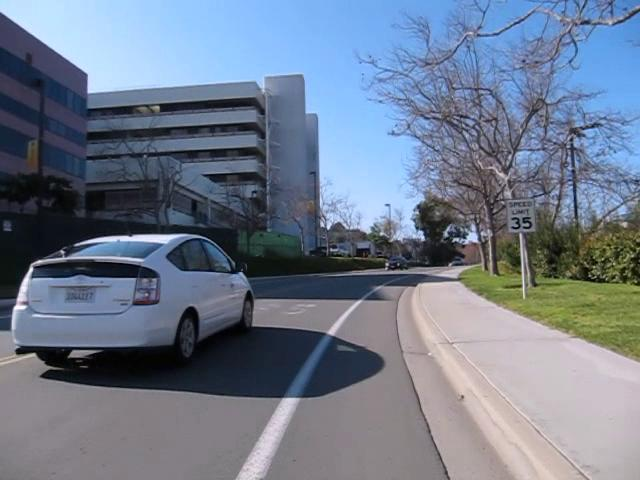speedLimit35: (505, 196, 537, 234)
